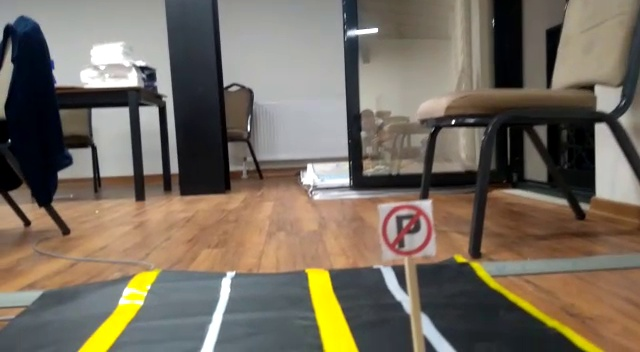park_yapilmaz: (377, 202, 433, 255)
